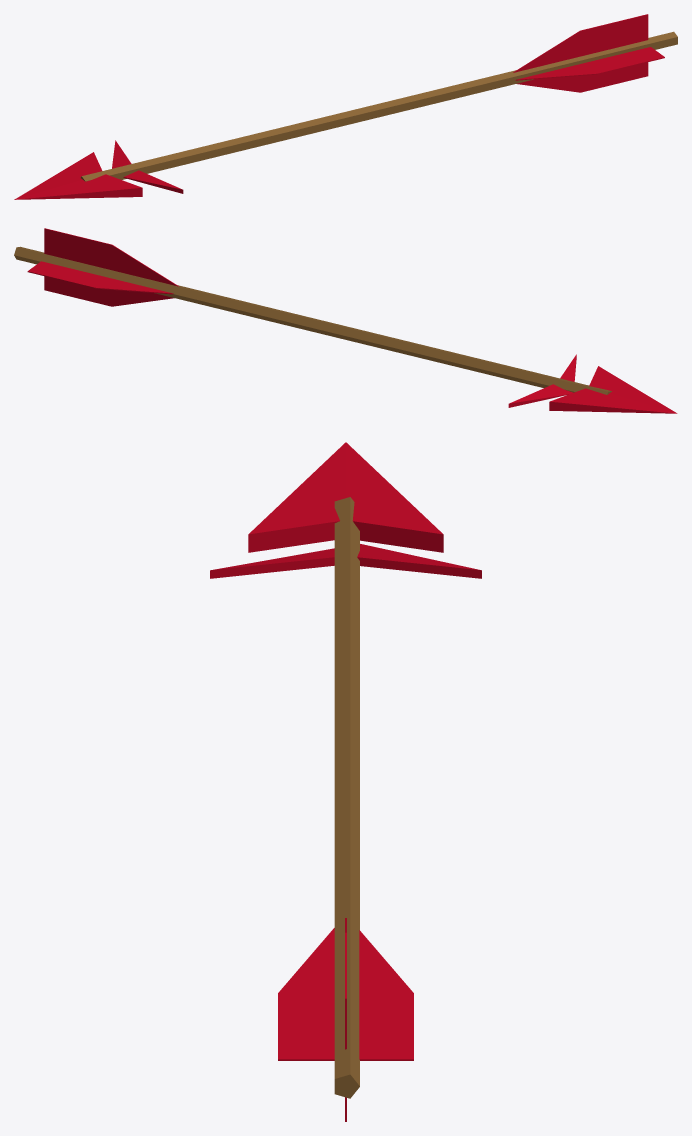
File: arrowEffect.obj
3 views of the same model, one above another, from view 1: azimuth 30°, elevation 25°; view 2: azimuth 150°, elevation 25°; view 3: azimuth 270°, elevation 25° (orthographic). The views are drawn at different scales.
Visible parts, largest first — view 1: Cylinder.001, Cube.002_Cube.001, Cube_Cube.002, Cube.003_Cube.001, Cube.001_Cube.001; view 2: Cylinder.001, Cube.002_Cube.001, Cube_Cube.002, Cube.003_Cube.001, Cube.001_Cube.001; view 3: Cylinder.001, Cube.003_Cube.001, Cube_Cube.002, Cube.001_Cube.001.
Boxes of the visible parts, x1,y1,x2,y2 form: Cylinder.001: (81,31,677,181); Cube.002_Cube.001: (513,14,648,92); Cube_Cube.002: (14,152,142,199); Cube.003_Cube.001: (515,47,664,80); Cube.001_Cube.001: (112,140,183,193); Cylinder.001: (14,246,611,394); Cube.002_Cube.001: (44,228,178,306); Cube_Cube.002: (549,366,677,413); Cube.003_Cube.001: (27,261,173,294); Cube.001_Cube.001: (508,354,576,407); Cylinder.001: (334,497,359,1098); Cube.003_Cube.001: (278,928,413,1060); Cube_Cube.002: (248,442,443,552); Cube.001_Cube.001: (210,544,481,578).
Size of the model in its own units: 29.38 by 2.62 by 5.24.
Materials: 1 (1 with a texture image).
